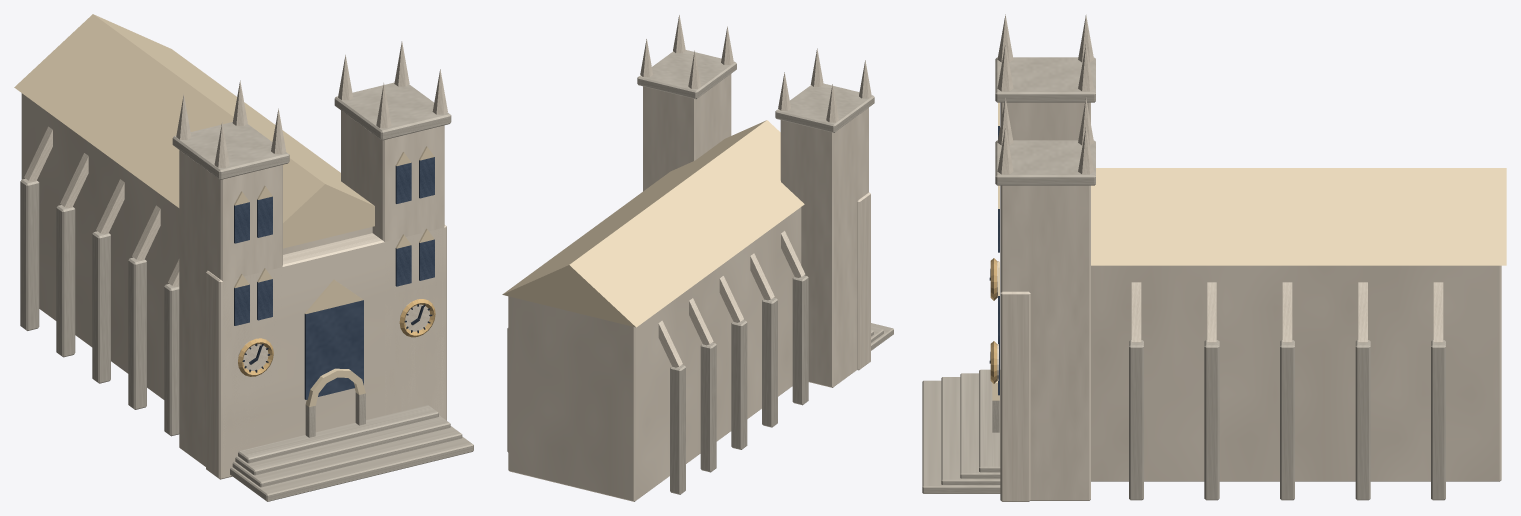
File: westminster-abbey.glb
3 views of the same model, side by side, from view 1: azimuth 30°, elevation 25°; view 2: azimuth 150°, elevation 25°; view 3: azimuth 270°, elevation 25° (orthographic). The views are drawn at different scales.
Parts seen in each view (by area): view 1: westminster-abbey; view 2: westminster-abbey; view 3: westminster-abbey.
Boxes of the visible parts, box(x1,y1,x2,y2) form: westminster-abbey: box(14, 14, 473, 501); westminster-abbey: box(502, 15, 893, 501); westminster-abbey: box(922, 14, 1506, 501).
Bounding box in the file's own units: 5.6 × 8.3 × 11.6.
1 material, 1 textured.
